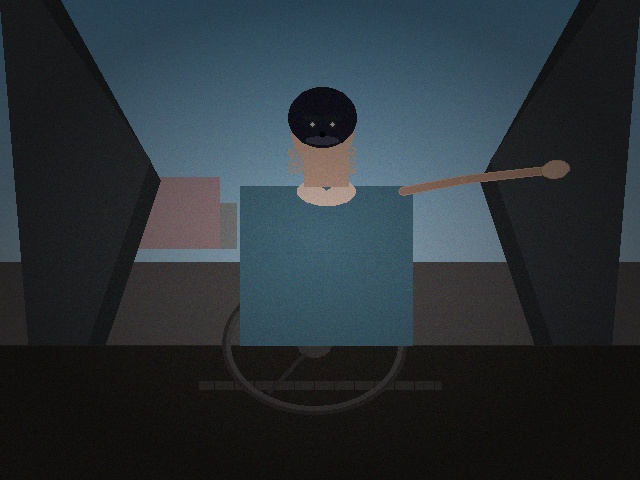hands_off_wheel: (531, 145, 579, 192)
